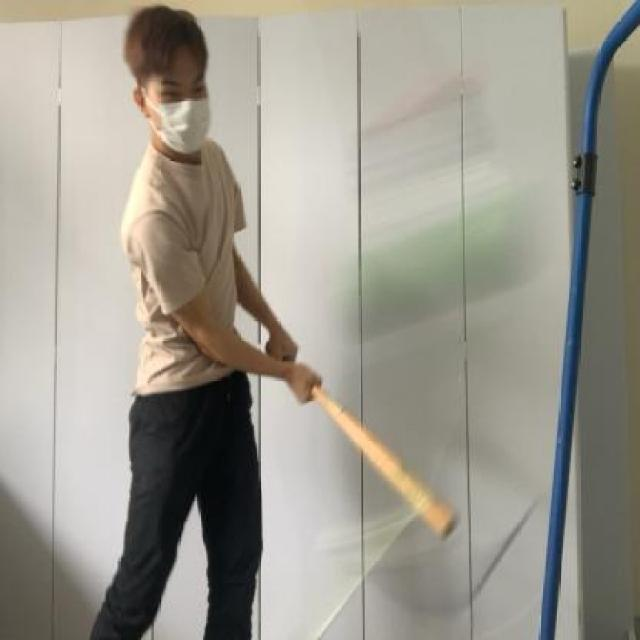baseball: (326, 162, 569, 352)
